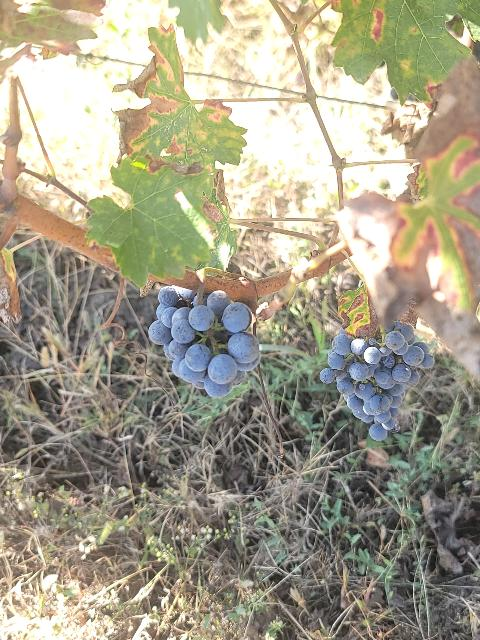grapes: (320, 320, 434, 441), (149, 286, 260, 399)
